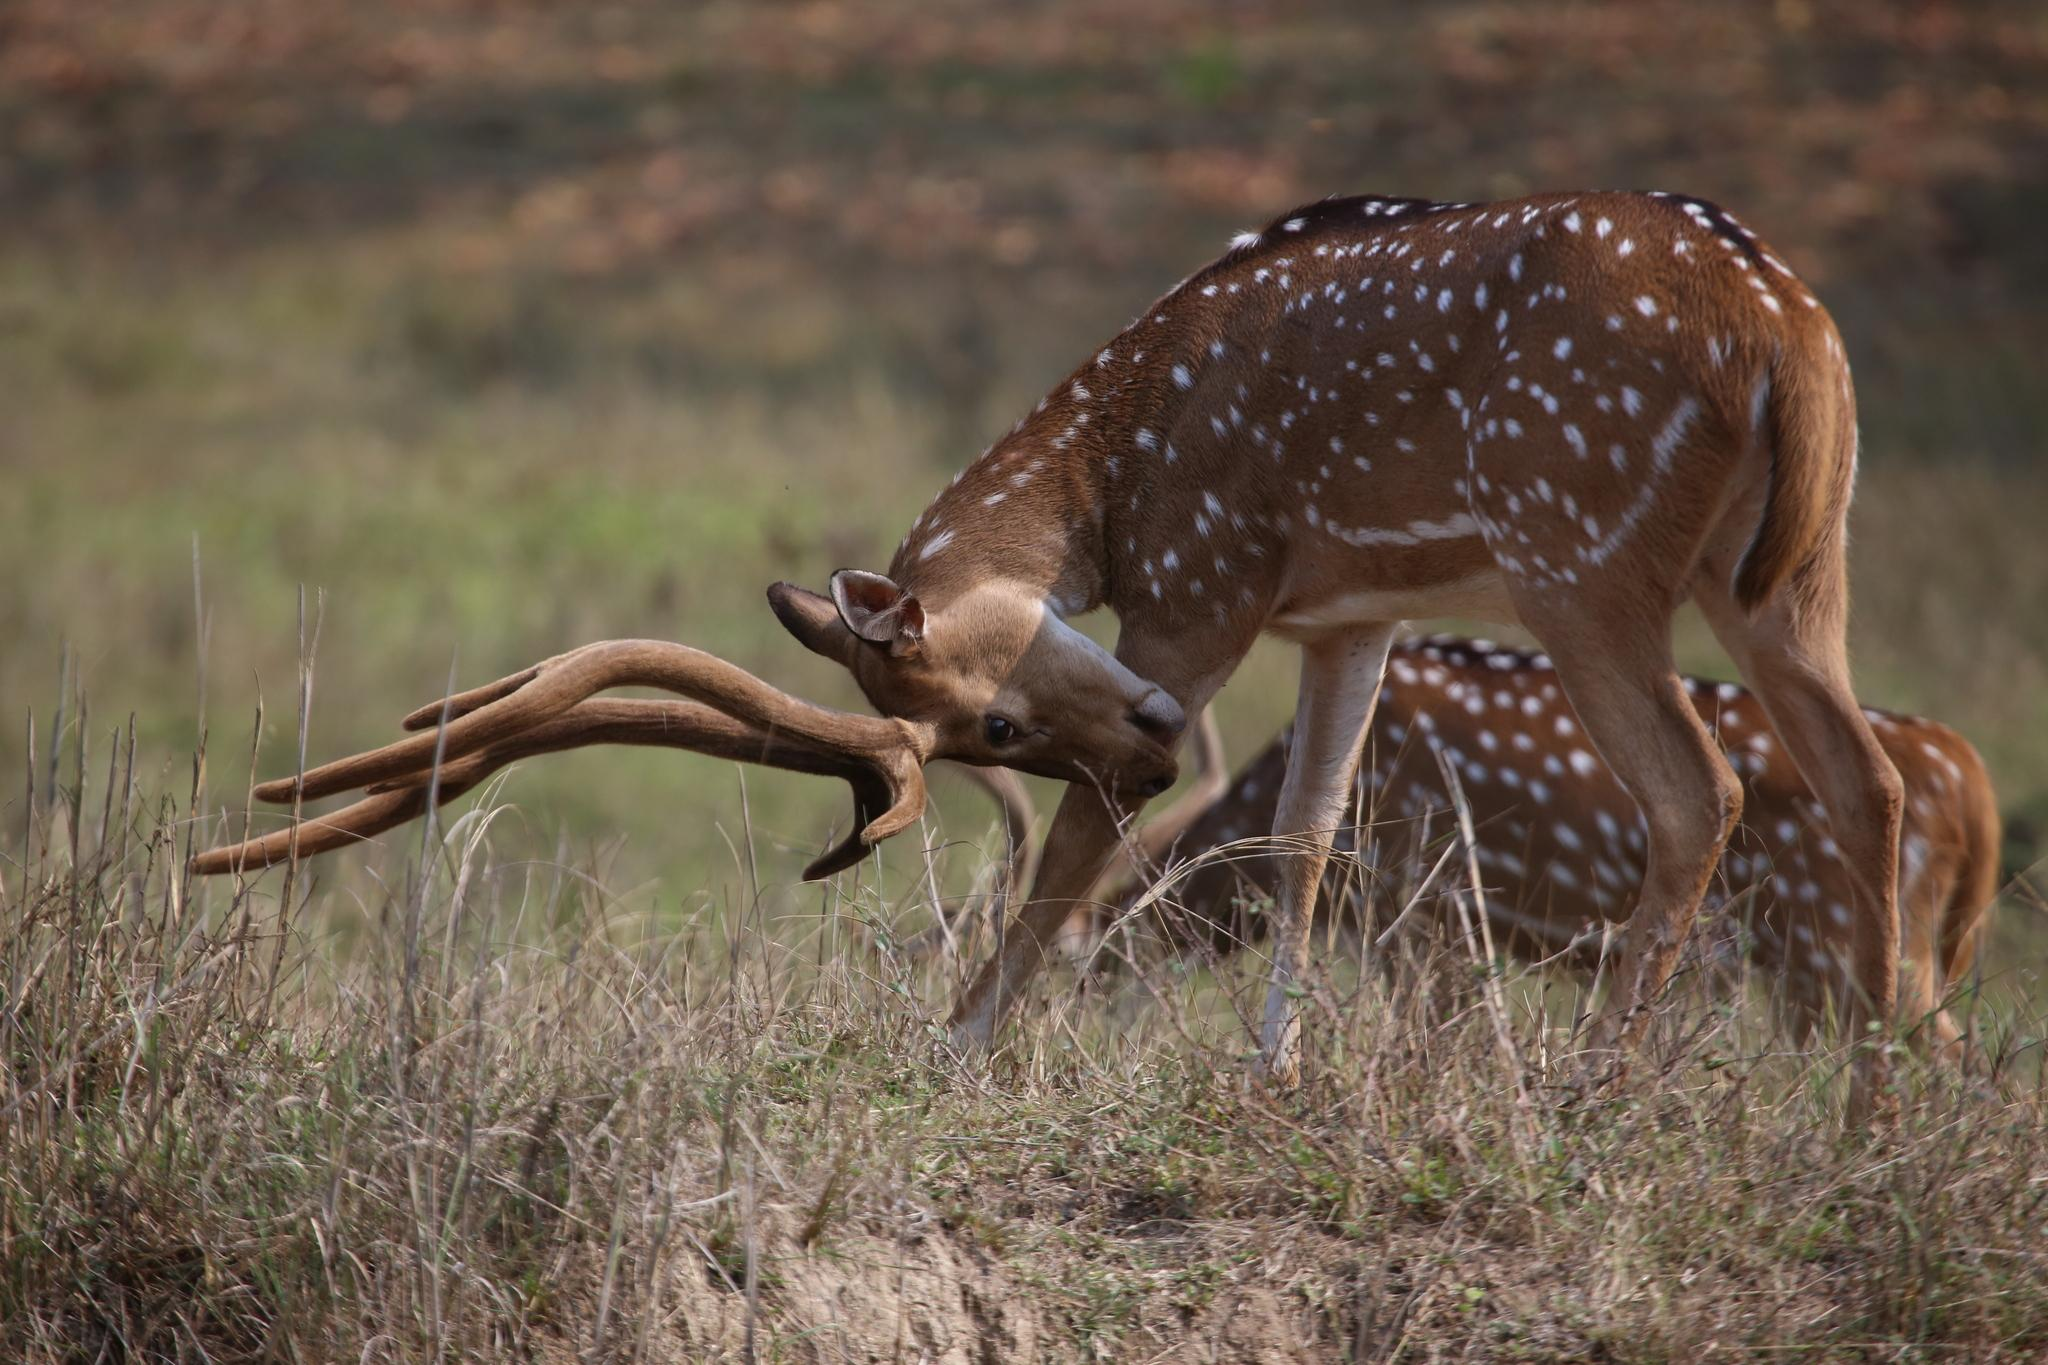Deer: (196, 192, 1903, 1066)
